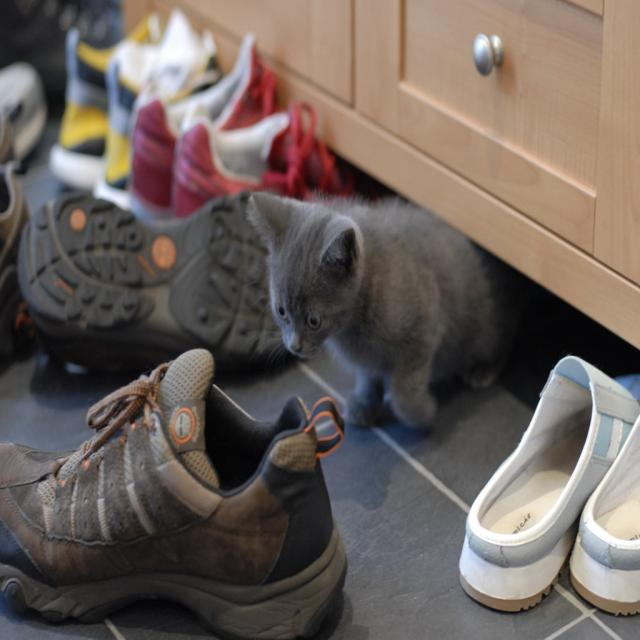Cat: (240, 184, 511, 437)
